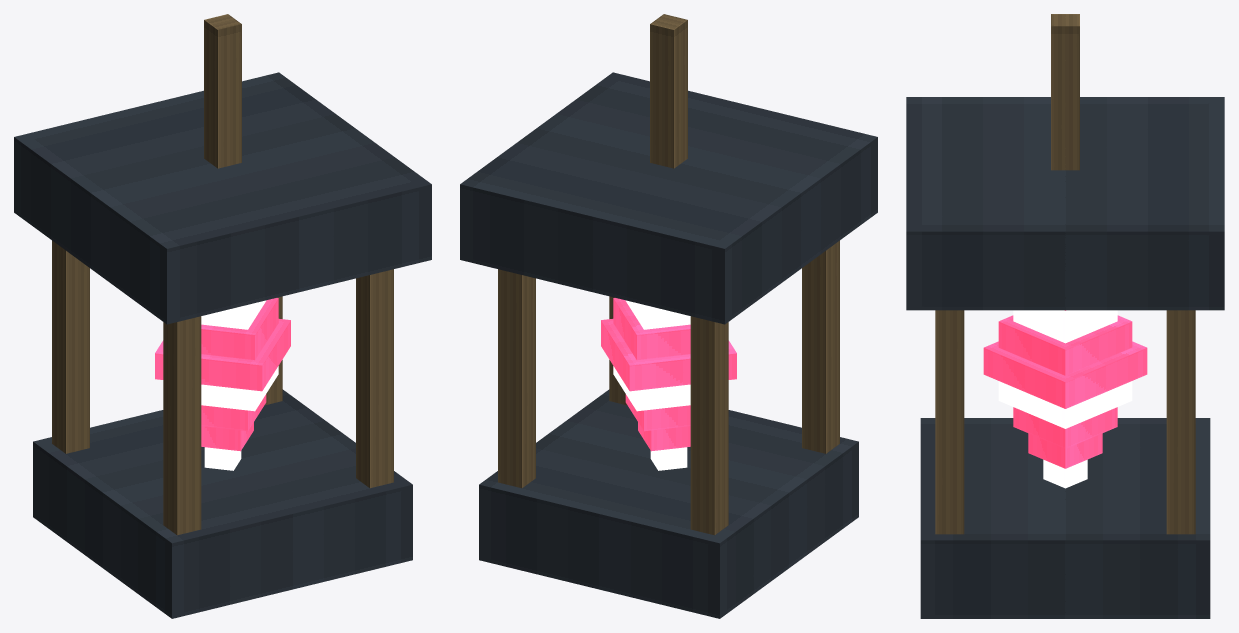
The model's file is lantern_hanging_red.gltf.
3 views of the same model, side by side, from view 1: azimuth 30°, elevation 25°; view 2: azimuth 150°, elevation 25°; view 3: azimuth 270°, elevation 25° (orthographic). The views are drawn at different scales.
Visible parts, largest first — view 1: lamp_mesh, root_mesh; view 2: lamp_mesh, root_mesh; view 3: lamp_mesh, root_mesh.
Boxes of the visible parts, x1,y1,x2,y2 form: lamp_mesh: (14,72,431,618); root_mesh: (204,14,241,168); lamp_mesh: (460,72,877,618); root_mesh: (650,14,687,168); lamp_mesh: (906,97,1224,618); root_mesh: (1051,14,1079,170).
Size of the model in its own units: 0.6875 by 1.28 by 0.6875.
Materials: 1 (1 with a texture image).
